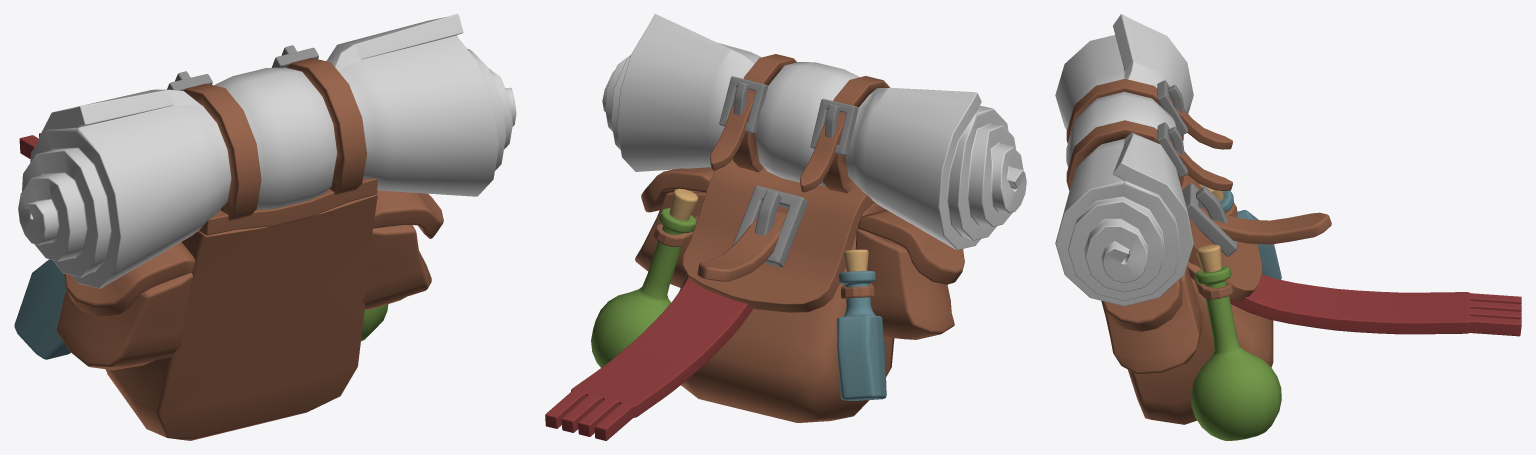
File: Backpack01_mesh.fbx
The picture shows the model from 3 angles, left to right: view 1: azimuth 30°, elevation 25°; view 2: azimuth 150°, elevation 25°; view 3: azimuth 270°, elevation 25°; orthographic projection. The views are drawn at different scales.
Visible parts, largest first — view 1: Backpack_01; view 2: Backpack_01; view 3: Backpack_01.
Boxes of the visible parts, x1=… form: Backpack_01: x1=14, y1=14, x2=516, y2=440; Backpack_01: x1=545, y1=14, x2=1026, y2=440; Backpack_01: x1=1055, y1=14, x2=1521, y2=440.
Bounding box in the file's own units: 45.14 × 35.1 × 47.5.
